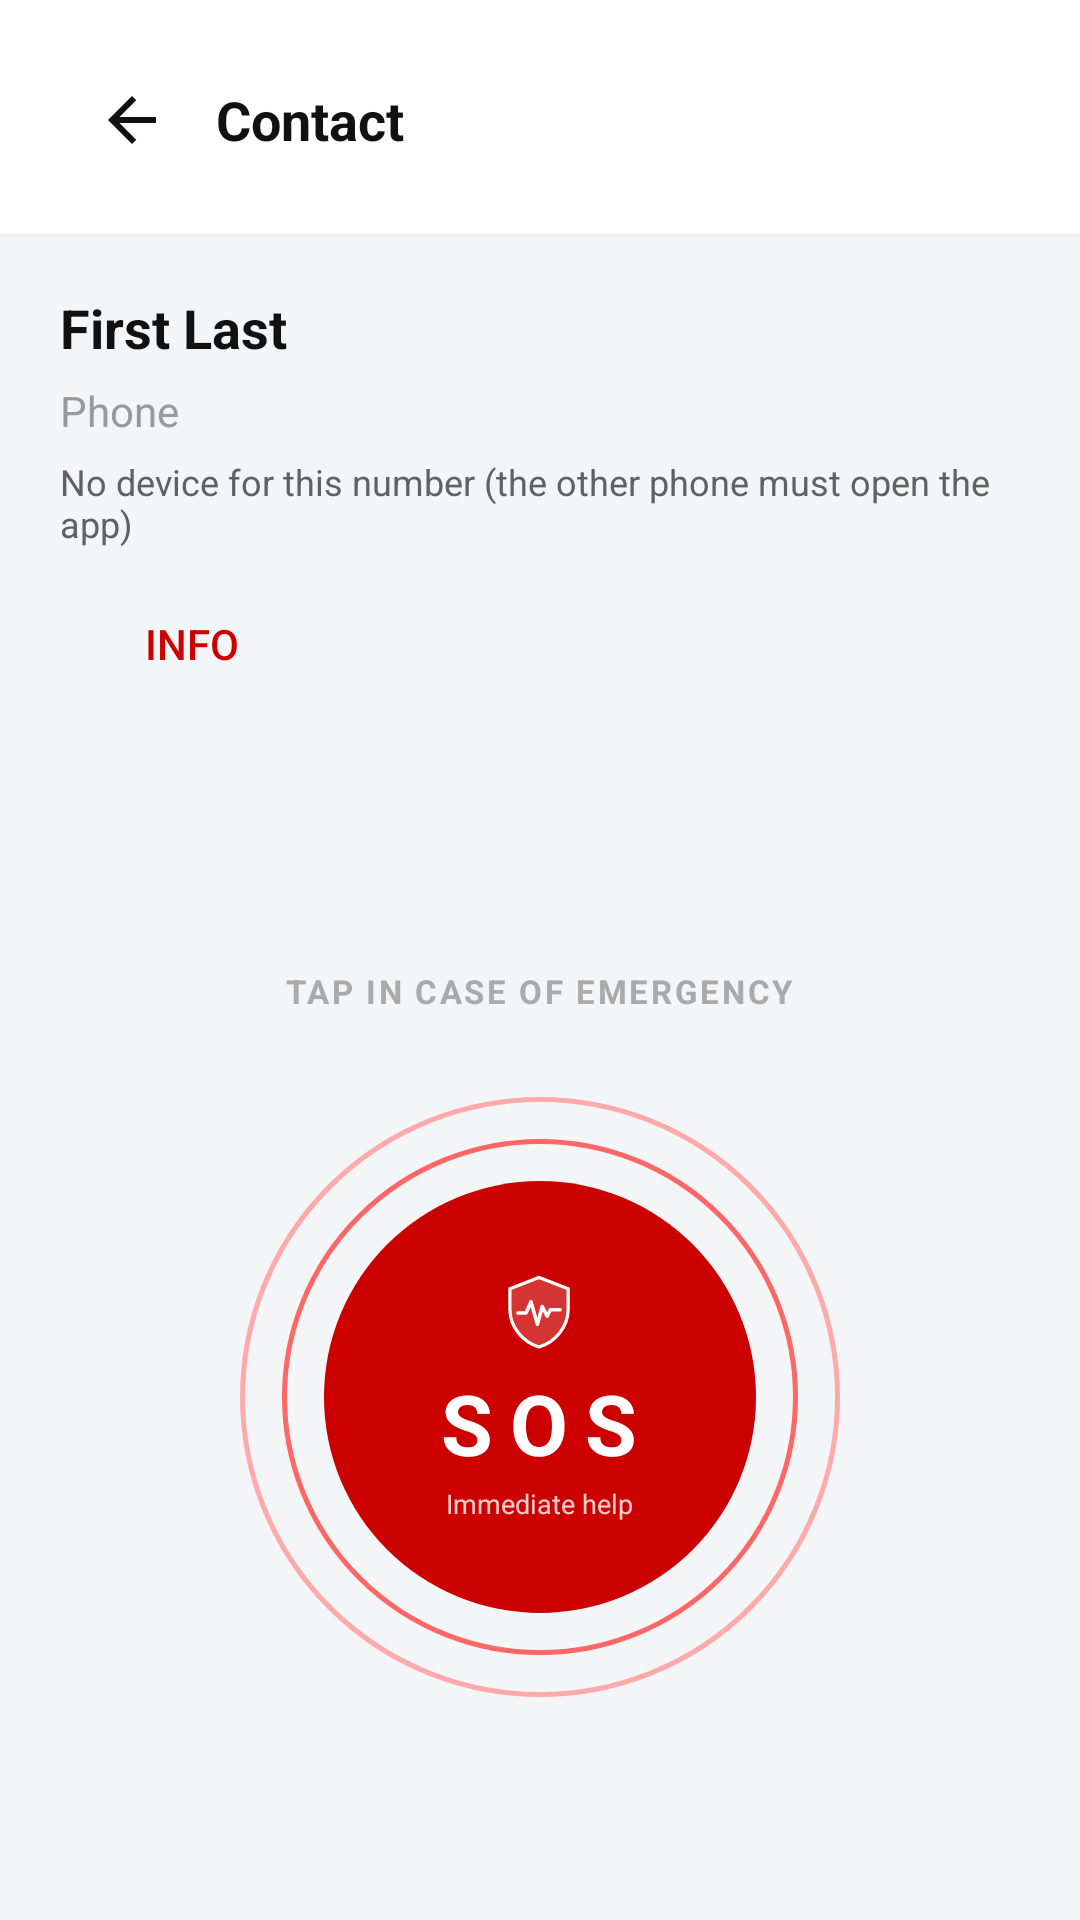

Point at icon controls on the screen. Image size 1080px×1920px, points as (x,y).
back arrow: (132,120)
shield heartbeat: (539,1312)
